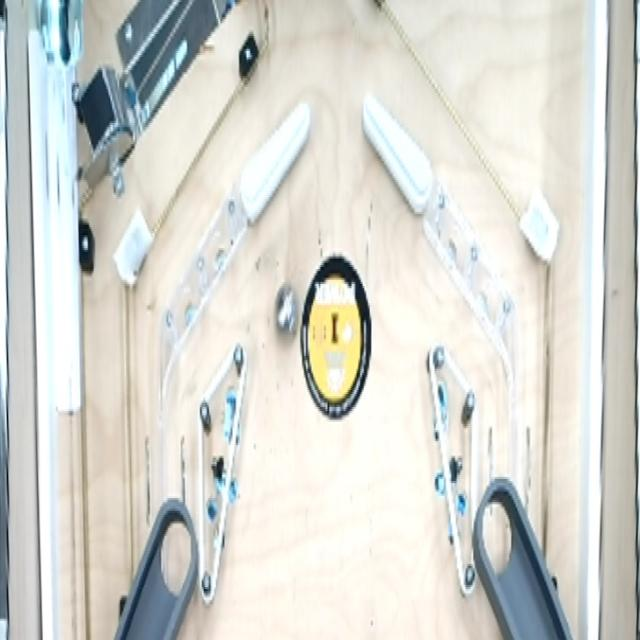ball: (270, 279, 300, 347)
flipper-left: (359, 82, 438, 240)
flipper-right: (239, 95, 315, 236)
